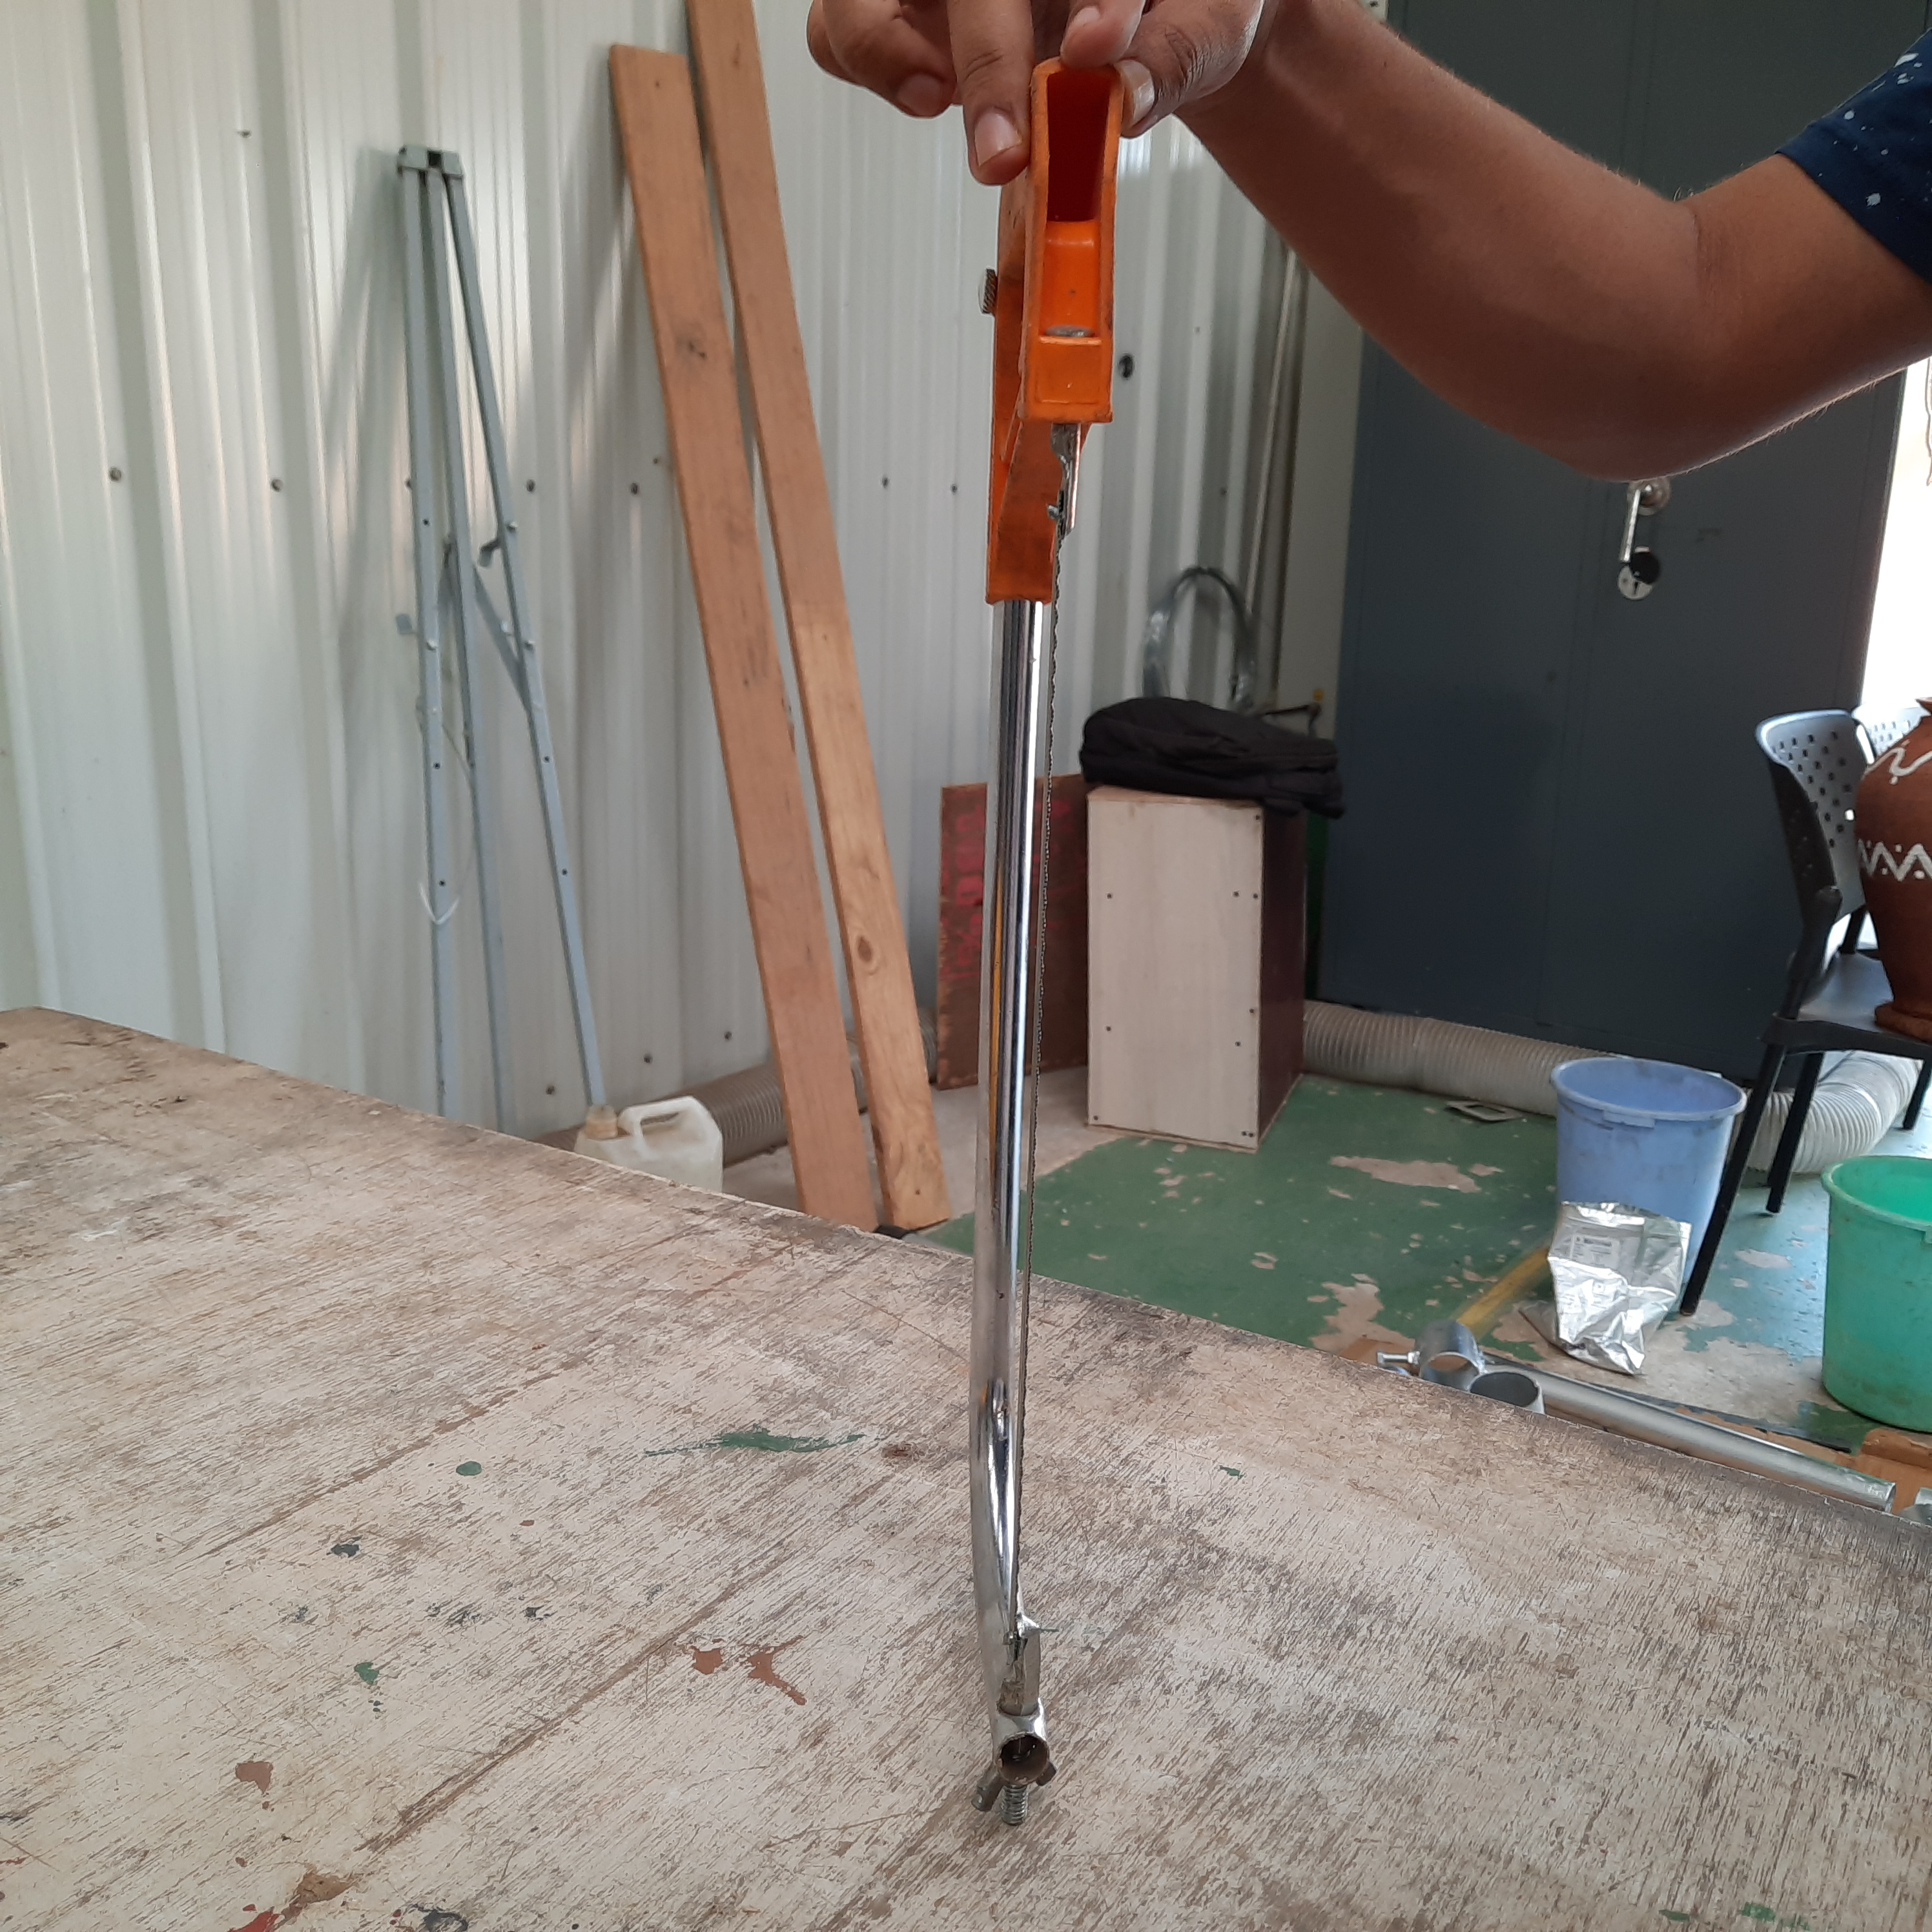Hexaframe: (959, 50, 1123, 1789)
